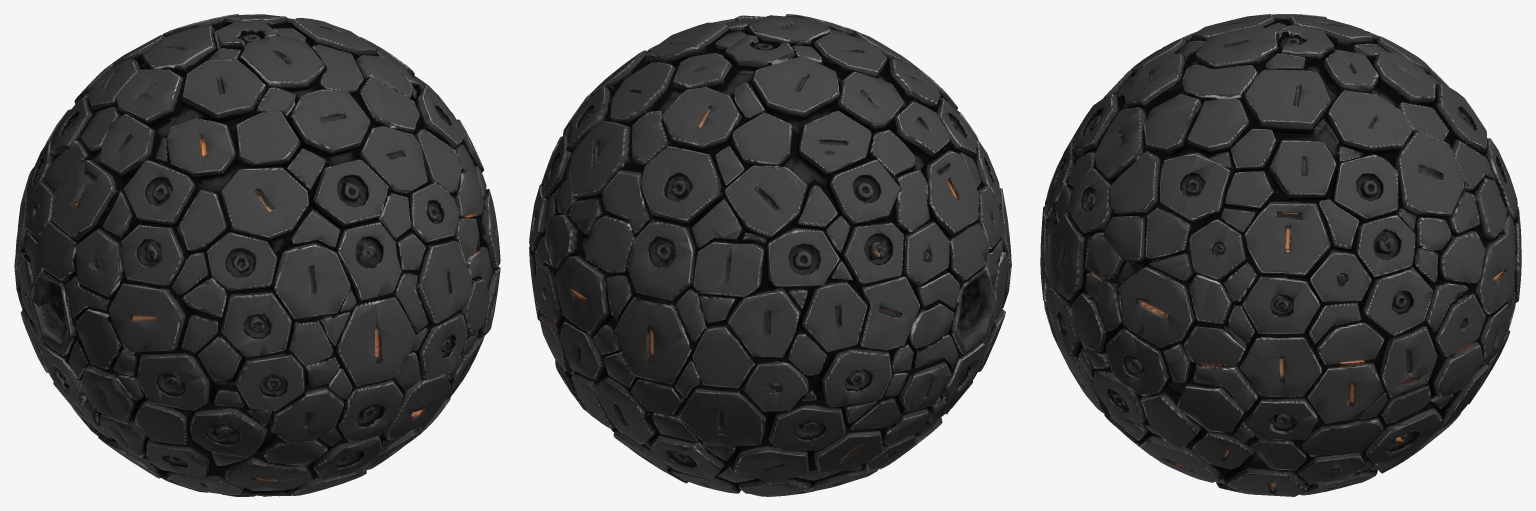
File: Enemigo8.glb
The picture shows the model from 3 angles, left to right: view 1: azimuth 30°, elevation 25°; view 2: azimuth 150°, elevation 25°; view 3: azimuth 270°, elevation 25°; orthographic projection.
Parts seen in each view (by area): view 1: tripo_node_02b3463f-a45f-40cd-9d26-0a1b5401b5a9; view 2: tripo_node_02b3463f-a45f-40cd-9d26-0a1b5401b5a9; view 3: tripo_node_02b3463f-a45f-40cd-9d26-0a1b5401b5a9.
Part boxes in pixels (x1=…): tripo_node_02b3463f-a45f-40cd-9d26-0a1b5401b5a9: x1=14, y1=14, x2=500, y2=496; tripo_node_02b3463f-a45f-40cd-9d26-0a1b5401b5a9: x1=529, y1=14, x2=1011, y2=496; tripo_node_02b3463f-a45f-40cd-9d26-0a1b5401b5a9: x1=1040, y1=14, x2=1521, y2=496.
Size of the model in its own units: 0.9742 by 0.9803 by 0.9778.
1 material, 1 textured.
